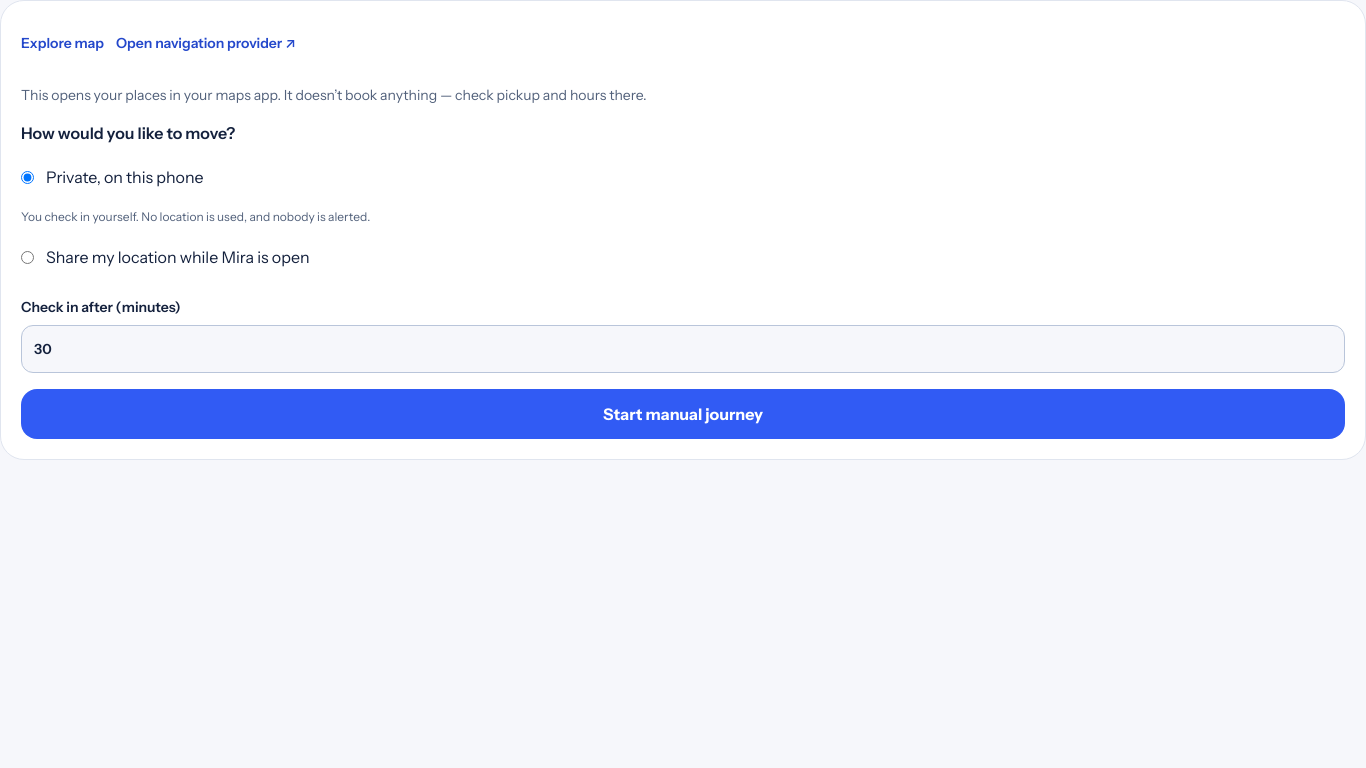
chosen journey explicit consent and stable retry › an older unconfirmed start checks its receipt before accepting another fresh start
The image size is (1366, 768).
Step 1. Click the radio button labelled "Share my location while Mira is open" → click(28, 257), box [21,250,34,264]
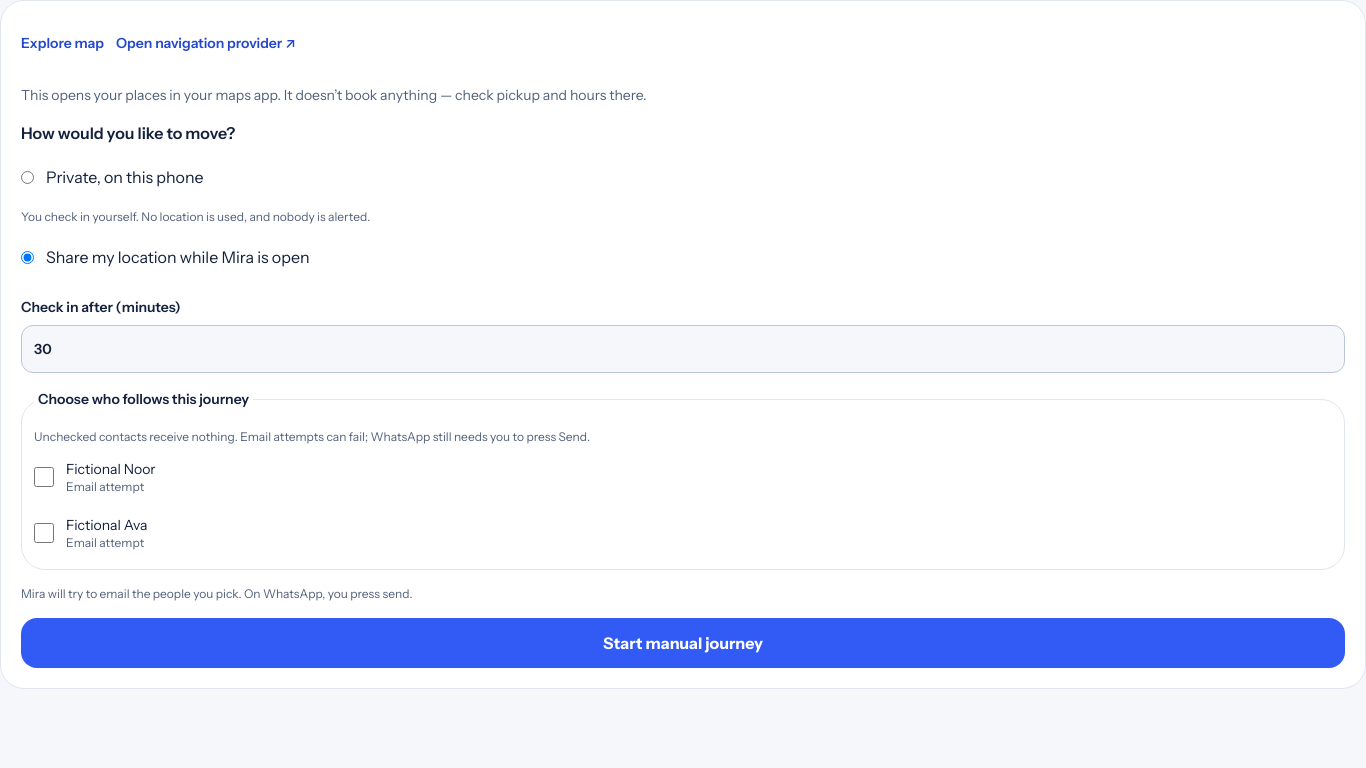
Step 2. Click the button "Start manual journey" → click(683, 643), box [21,618,1345,668]
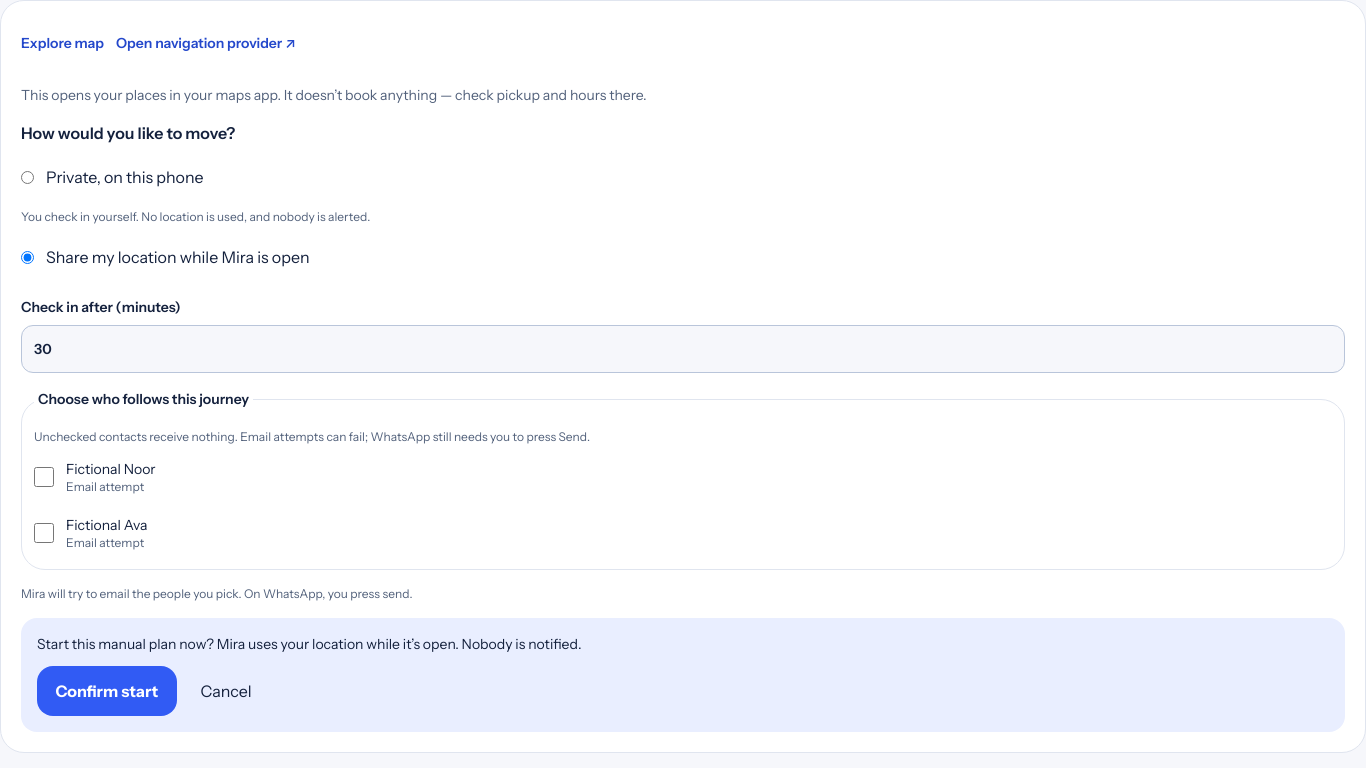
Step 3. Click the button "Confirm start" → click(107, 691), box [37,666,177,716]
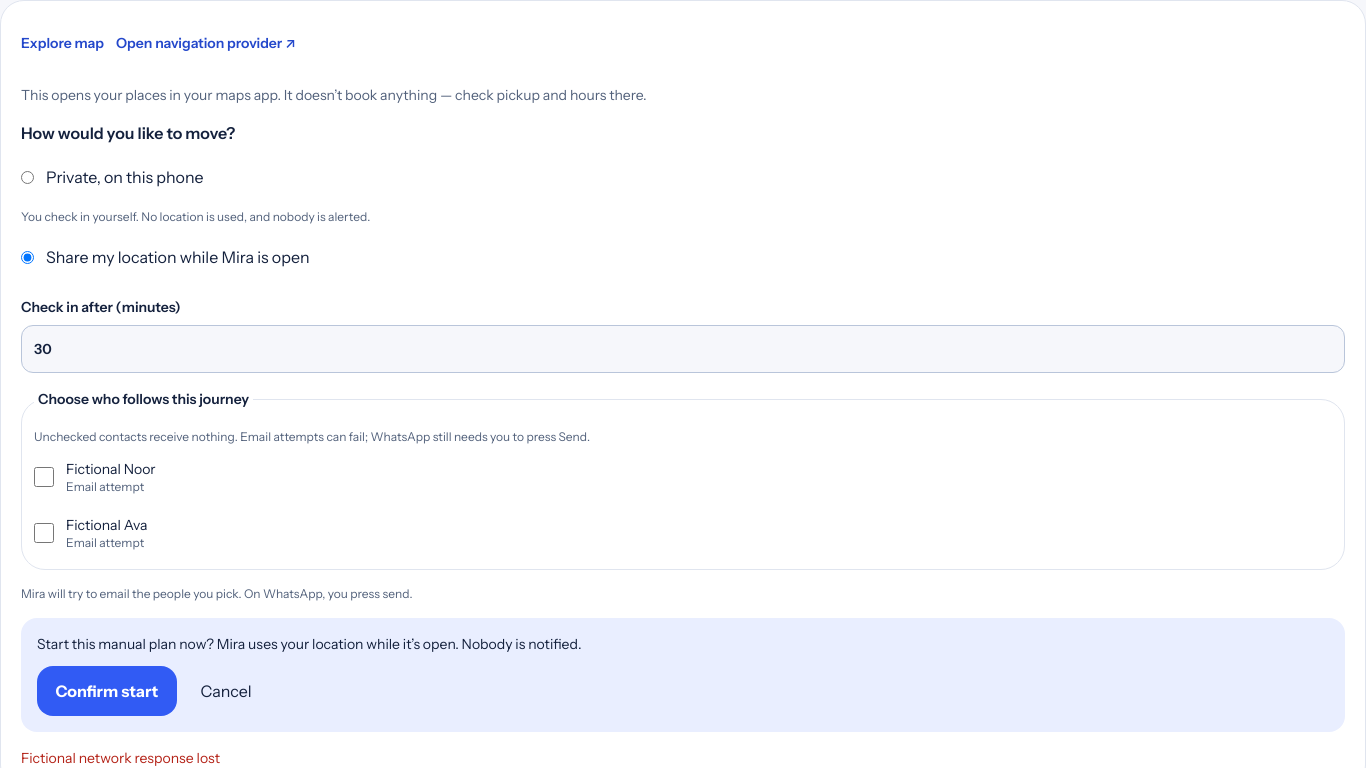
Result: the text "Fictional network response lost" is shown at [21,749,220,767]
Step 4. Click the button "Confirm start" → click(107, 691), box [37,666,177,716]
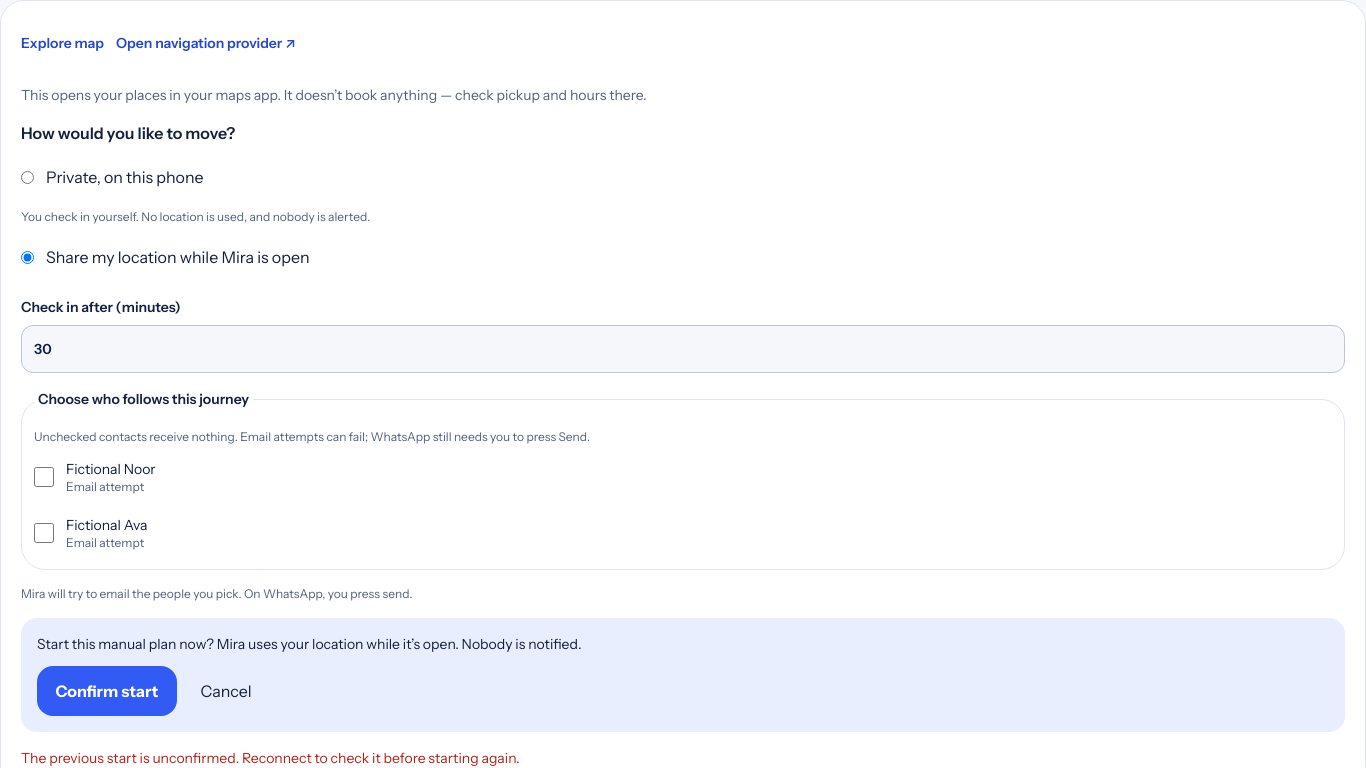
Result: the text "previous start is unconfirmed" is shown at [21,749,520,767]
